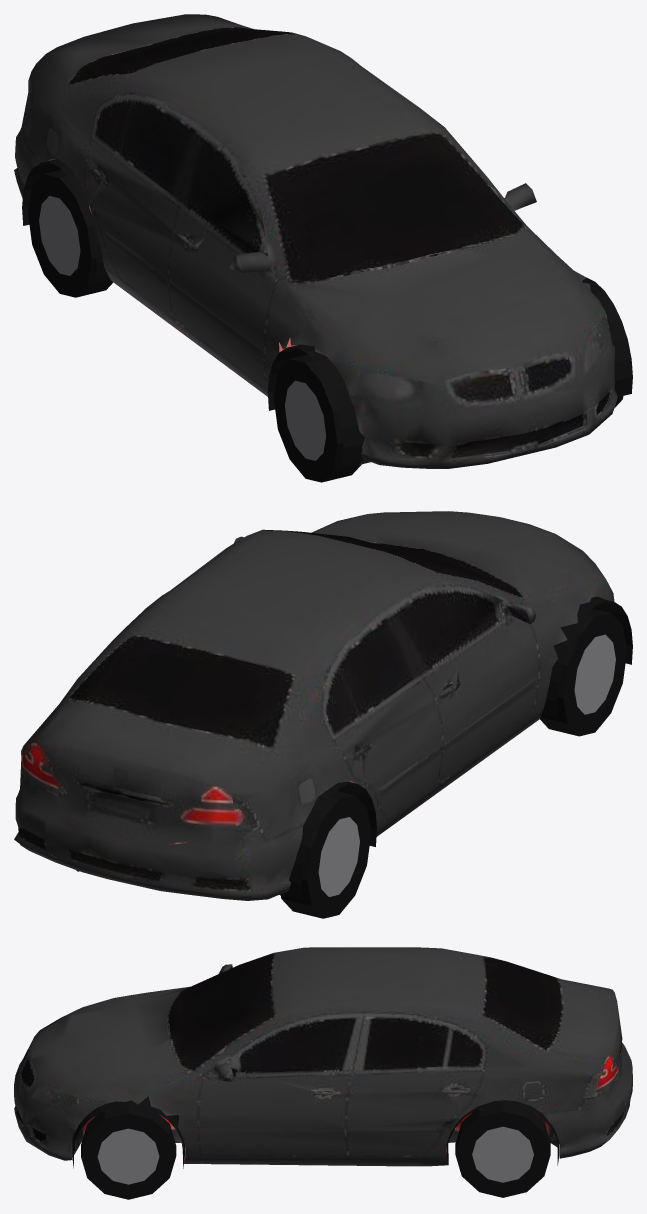
The model's file is saloon-black.glb.
The picture shows the model from 3 angles, top to bottom: view 1: azimuth 30°, elevation 25°; view 2: azimuth 150°, elevation 25°; view 3: azimuth 270°, elevation 25°; orthographic projection. The views are drawn at different scales.
Parts seen in each view (by area): view 1: saloon, wheel_fr, wheel_rr; view 2: saloon, wheel_rr, wheel_fr; view 3: saloon, wheel_rl, wheel_fl.
Boxes of the visible parts, x1=… form: saloon: x1=14, y1=14, x2=632, y2=468; wheel_fr: x1=273, y1=354, x2=363, y2=482; wheel_rr: x1=28, y1=170, x2=112, y2=297; saloon: x1=14, y1=511, x2=632, y2=900; wheel_rr: x1=280, y1=791, x2=371, y2=918; wheel_fr: x1=540, y1=608, x2=626, y2=736; saloon: x1=14, y1=947, x2=632, y2=1168; wheel_rl: x1=455, y1=1103, x2=550, y2=1197; wheel_fl: x1=81, y1=1105, x2=176, y2=1199.
Size of the model in its own units: 1.88 by 1.41 by 4.5.
1 material, 1 textured.
